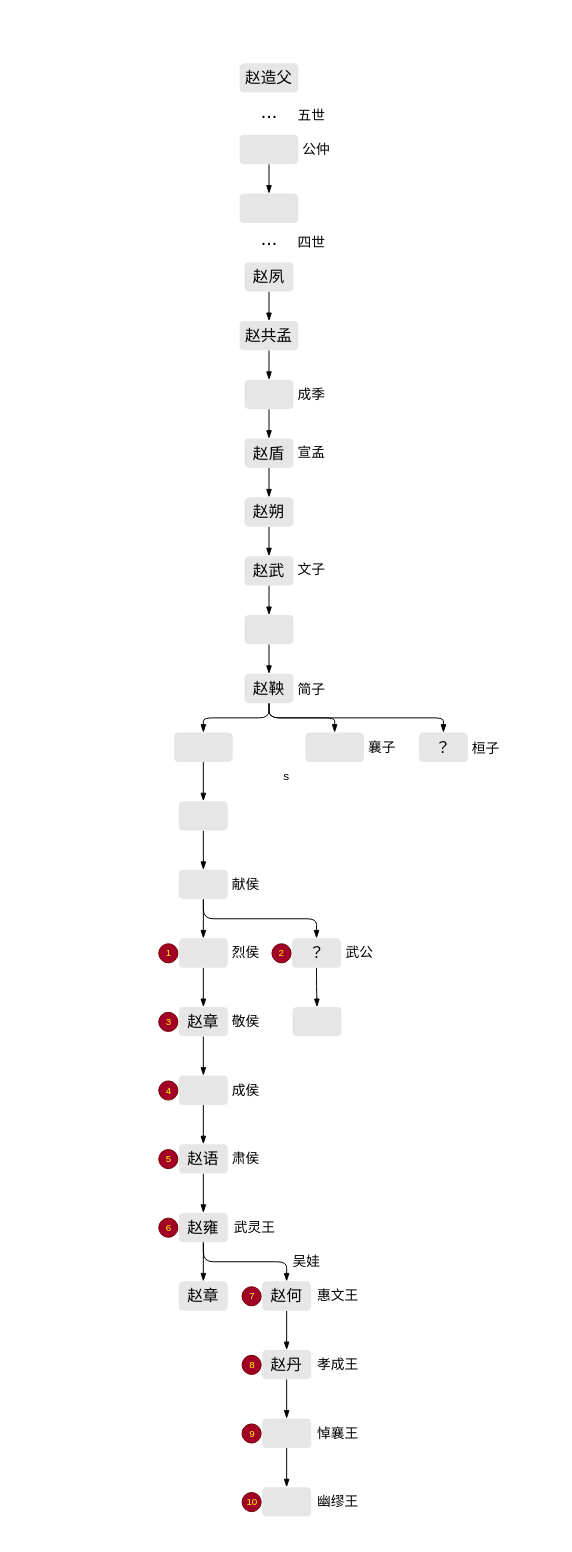
Some shapes in this 572 by 1552 pixel diagram are drawn without their labels. Here are the shapes that lost their labels. From the top down, the centre of each, then its label:
At point 268,149: "赵奄父".
At point 268,207: "赵叔带".
At point 268,394: "赵衰".
At point 268,629: "赵成".
At point 202,746: "赵伯鲁".
At point 334,746: "赵毋卹".
At point 202,815: "赵周".
At point 202,884: "赵浣".
At point 202,952: "赵籍".
At point 316,1021: "赵朝".
At point 202,1089: "赵种".
At point 286,1432: "赵偃".
At point 286,1501: "赵迁".
